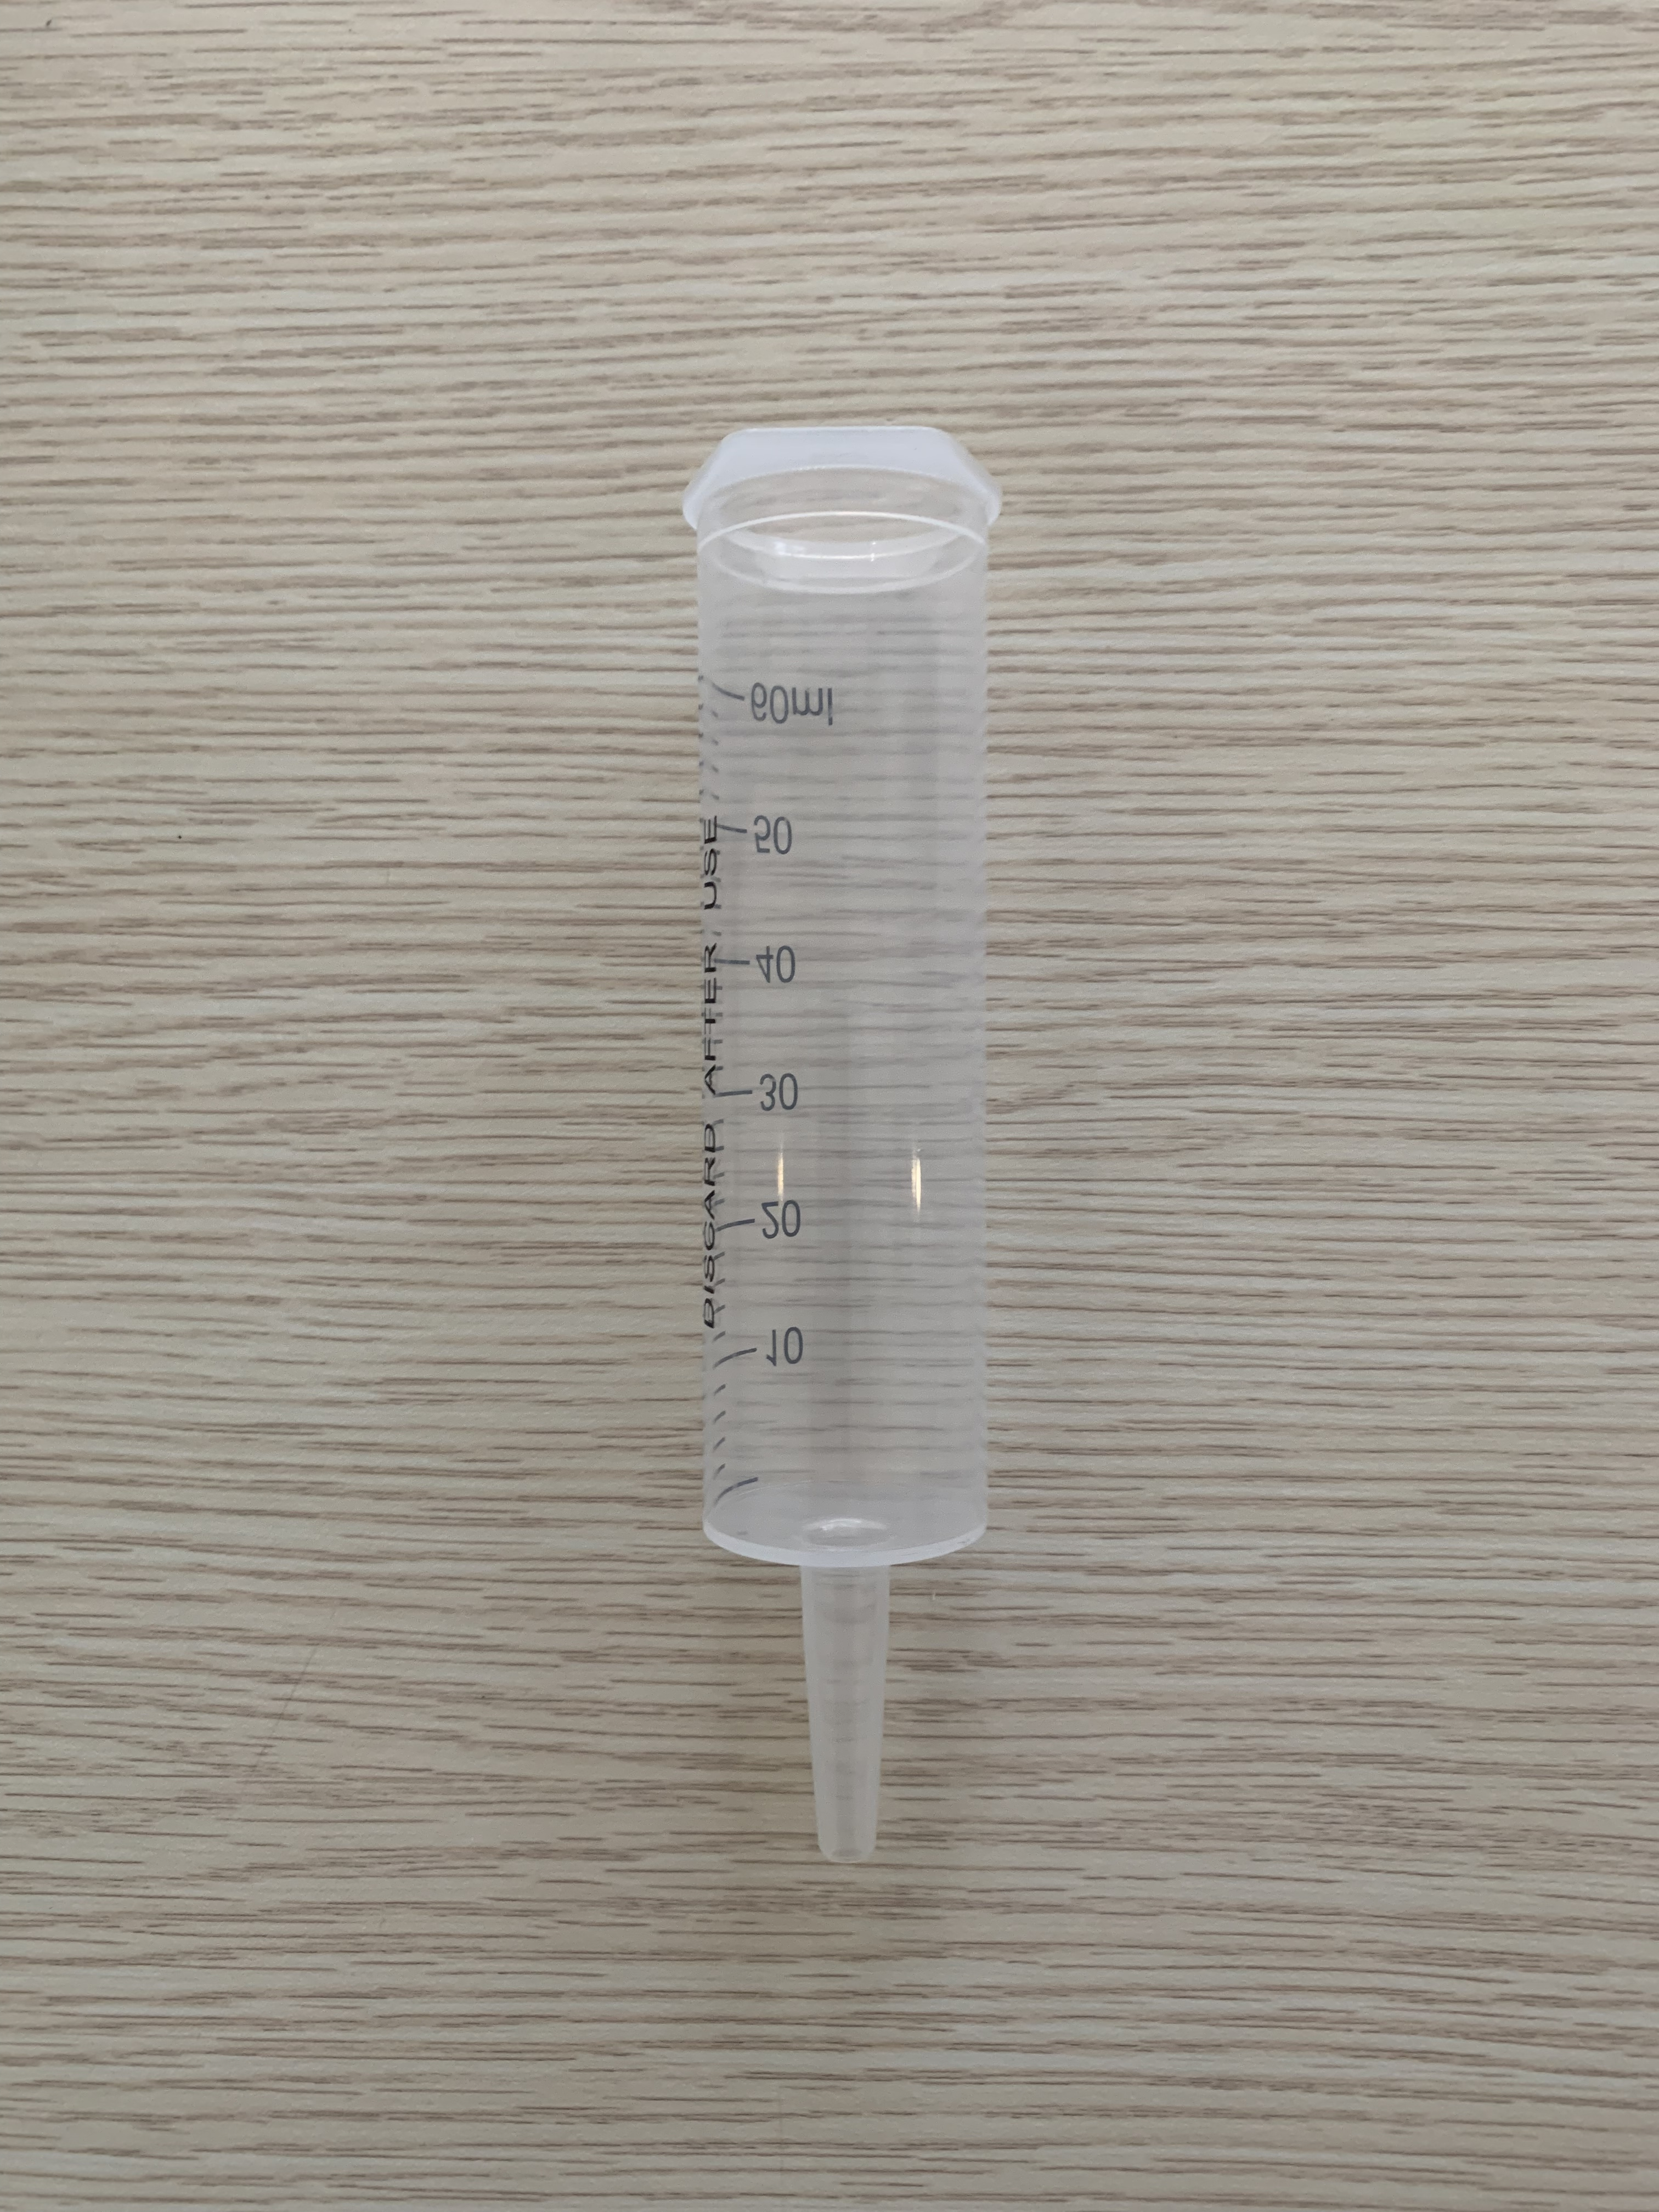syringe: (655, 394, 1021, 1871)
